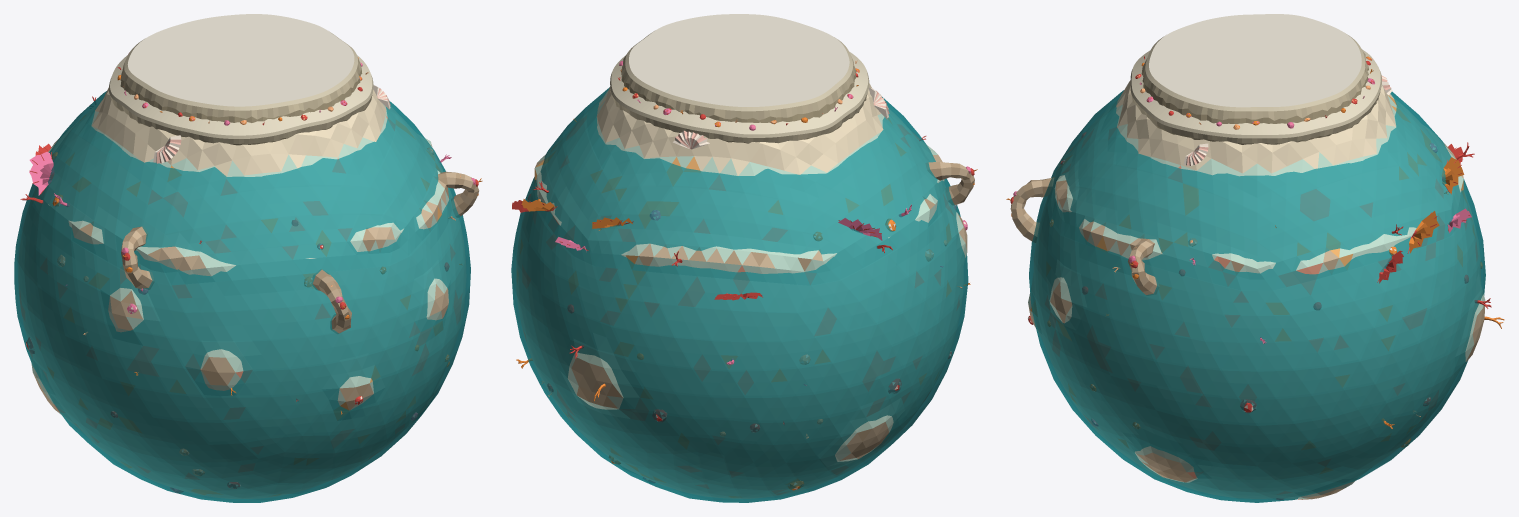
The model's file is 02_Coralune.glb.
3 views of the same model, side by side, from view 1: azimuth 30°, elevation 25°; view 2: azimuth 150°, elevation 25°; view 3: azimuth 270°, elevation 25° (orthographic).
Visible parts, largest first — view 1: Coralune_Body, Coralune_Ocean, Coralune_BuildArea, Coralune_Terraces, Coralune_Deco_ReefArches, Coralune_Deco_RoundCorals, Coralune_Deco_FanCorals, Coralune_Deco_Shells; view 2: Coralune_Body, Coralune_Ocean, Coralune_BuildArea, Coralune_Terraces, Coralune_Deco_FanCorals, Coralune_Deco_ReefArches, Coralune_Deco_RoundCorals, Coralune_Deco_Shells, Coralune_Deco_BranchCorals; view 3: Coralune_Body, Coralune_Ocean, Coralune_BuildArea, Coralune_Terraces, Coralune_Deco_ReefArches, Coralune_Deco_FanCorals, Coralune_Deco_RoundCorals.
Boxes of the visible parts, x1,y1,x2,y2 form: Coralune_Body: (18,87,466,498); Coralune_Ocean: (14,91,470,502); Coralune_BuildArea: (120,14,362,122); Coralune_Terraces: (109,55,373,145); Coralune_Deco_ReefArches: (121,171,482,333); Coralune_Deco_RoundCorals: (26,148,449,493); Coralune_Deco_FanCorals: (29,143,54,195); Coralune_Deco_Shells: (153,85,390,163); Coralune_Body: (516,83,967,498); Coralune_Ocean: (511,87,968,502); Coralune_BuildArea: (621,14,856,122); Coralune_Terraces: (610,51,869,143); Coralune_Deco_FanCorals: (512,199,882,300); Coralune_Deco_ReefArches: (925,162,977,205); Coralune_Deco_RoundCorals: (537,199,967,490); Coralune_Deco_Shells: (673,87,889,149); Coralune_Deco_BranchCorals: (516,136,970,401); Coralune_Body: (1028,80,1485,499); Coralune_Ocean: (1029,90,1485,502); Coralune_BuildArea: (1141,14,1368,123); Coralune_Terraces: (1130,49,1381,144); Coralune_Deco_ReefArches: (1006,178,1159,295); Coralune_Deco_FanCorals: (1377,144,1471,283); Coralune_Deco_RoundCorals: (1028,143,1437,499).
Size of the model in its own units: 2.03 by 2.03 by 2.18.
